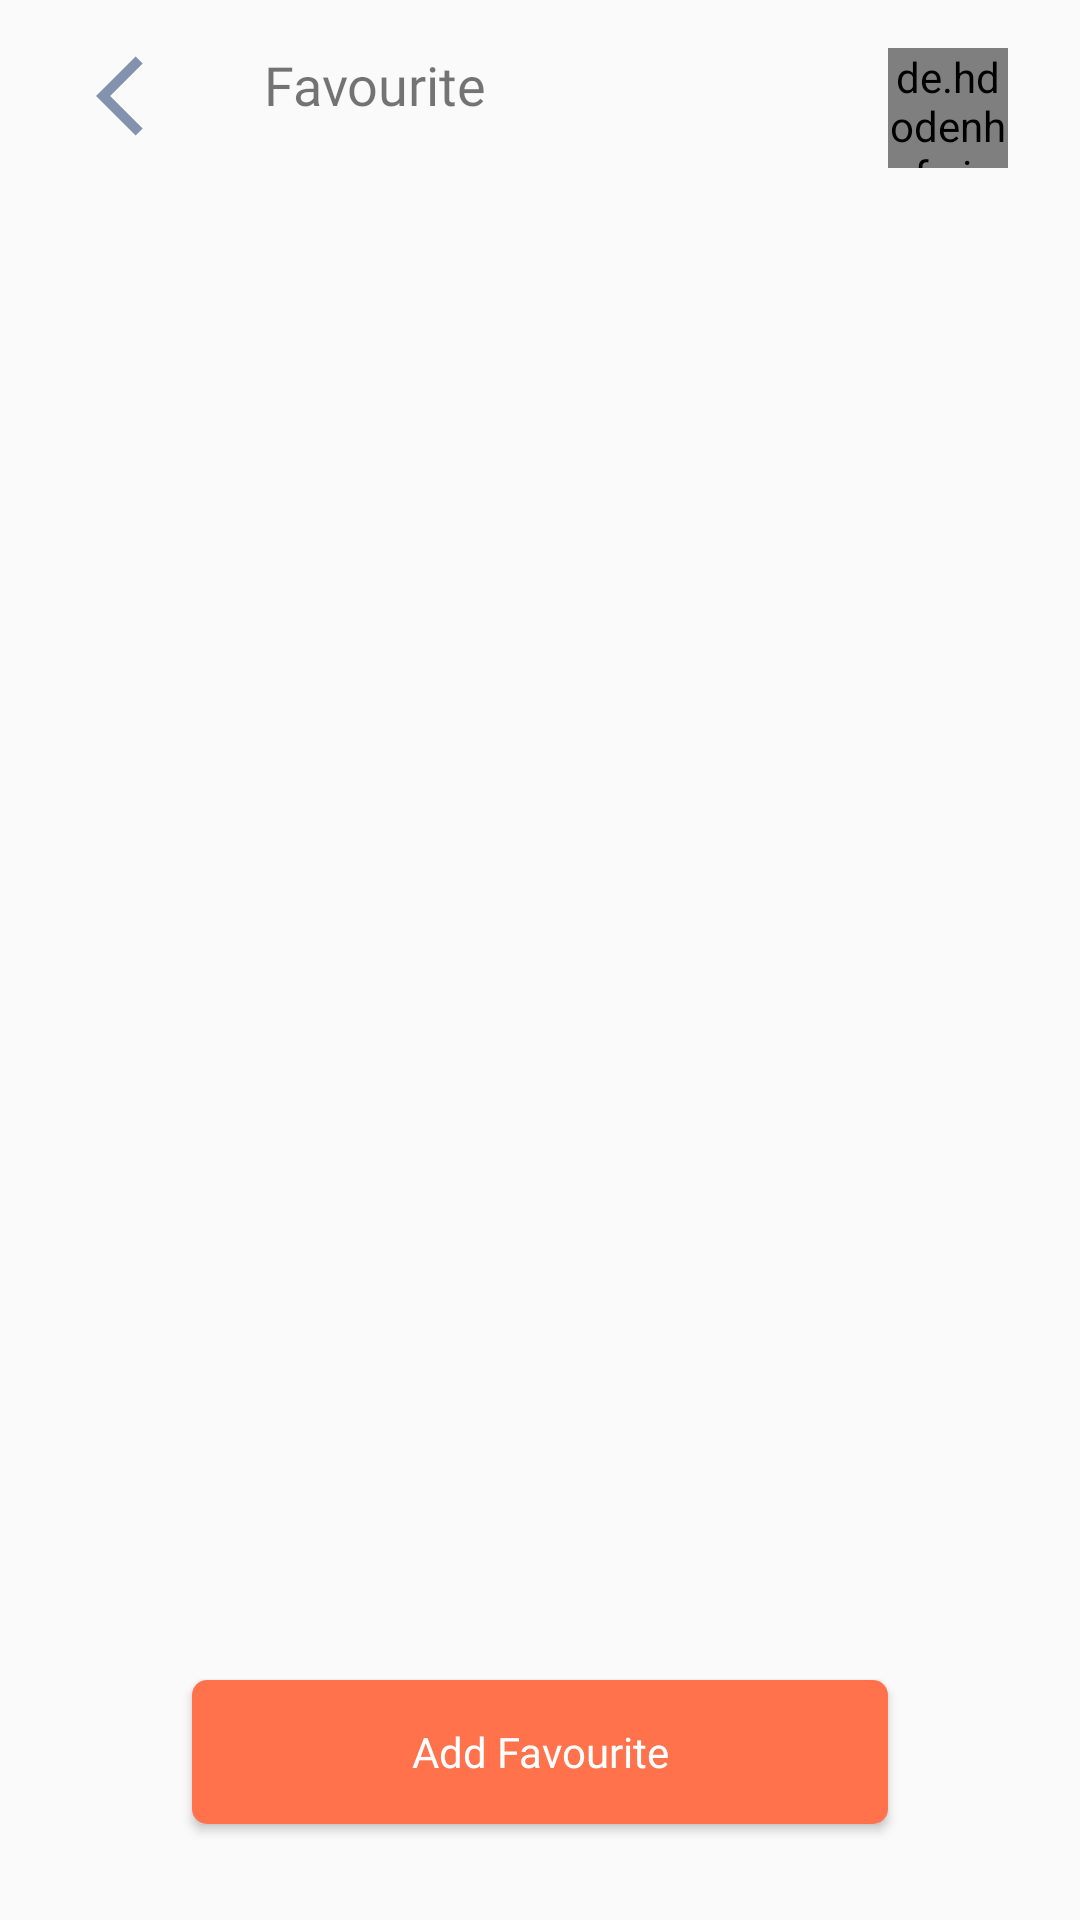

Locate icon controls on the screen. Image size 1080x1920, boxes as bbox(x1, y1, x2, y2).
arrow back: bbox(96, 56, 143, 136)
